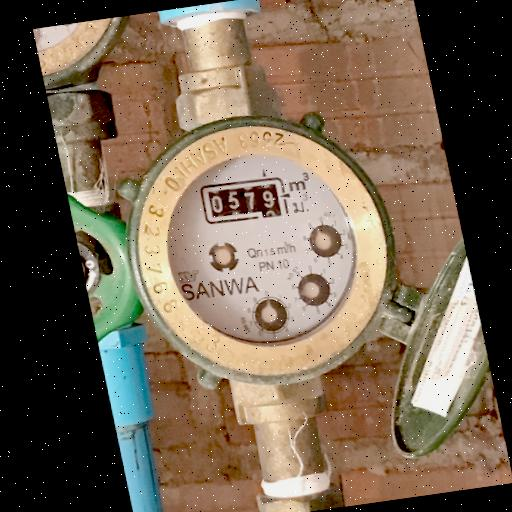0: (206, 190, 227, 218)
5: (220, 187, 245, 217)
7: (237, 185, 261, 213)
9: (255, 183, 283, 219)
border_water_meter_number: (195, 173, 292, 229)
